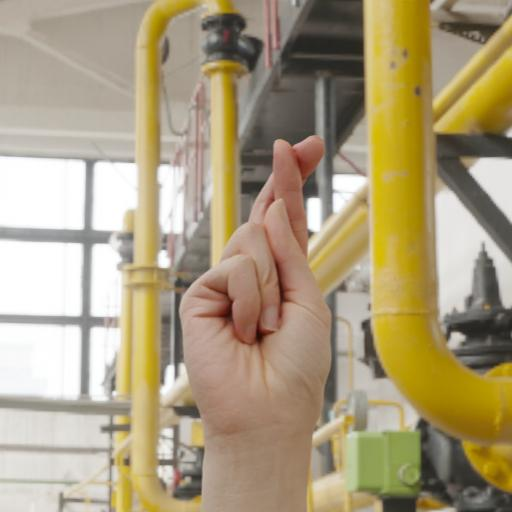R: (172, 120, 372, 439)
